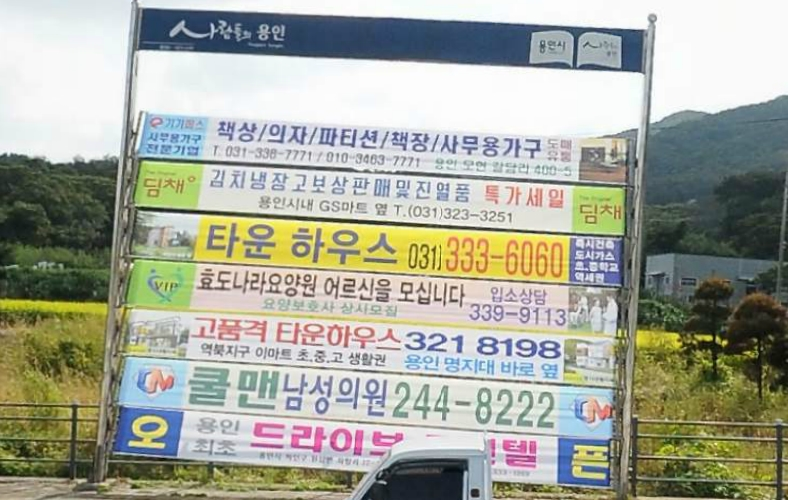banner: (88, 343, 648, 445), (95, 400, 647, 493), (86, 299, 643, 391), (118, 152, 661, 243), (91, 202, 651, 290), (114, 101, 643, 186), (91, 256, 648, 336)
